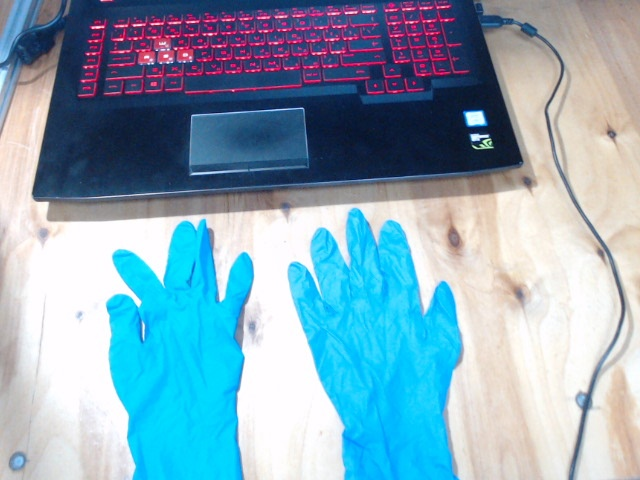medical_glove: (287, 207, 464, 480), (107, 219, 254, 480)
